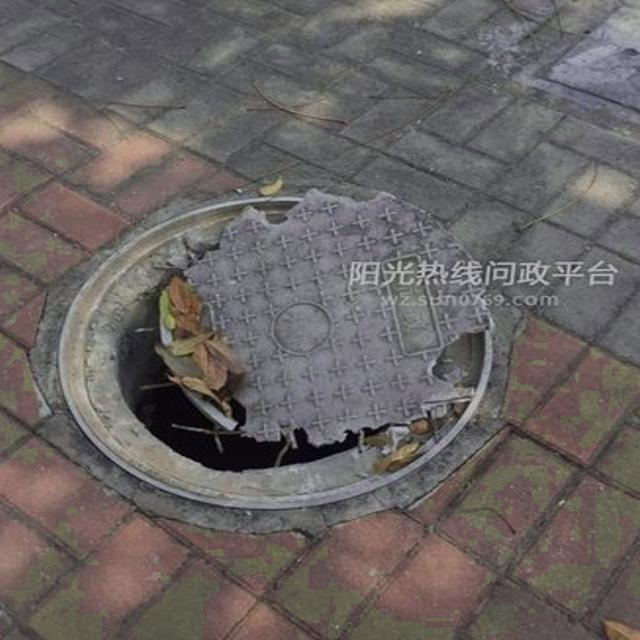broke: (13, 172, 548, 535)
